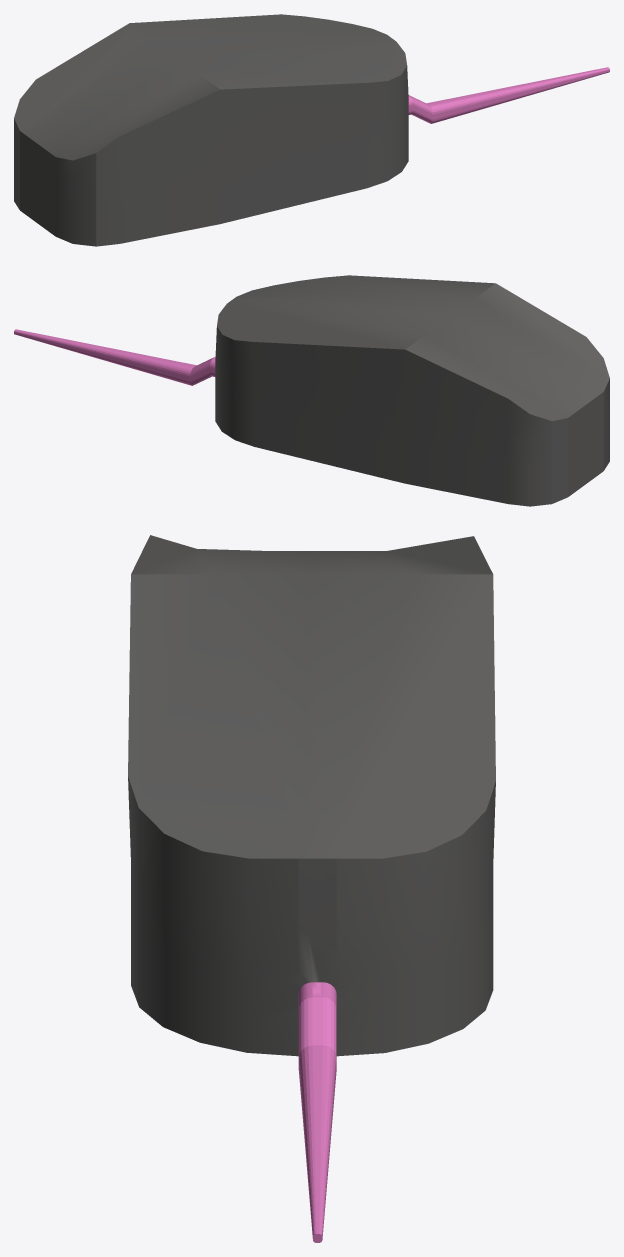
Rendered from mouse_mouse.fbx.
3 renders of one model, top to bottom at view 1: azimuth 30°, elevation 25°; view 2: azimuth 150°, elevation 25°; view 3: azimuth 270°, elevation 25°, orthographic. The views are drawn at different scales.
Visible parts, largest first — view 1: pCube1; view 2: pCube1; view 3: pCube1.
Part boxes in pixels (x1,y1,x2,y2): pCube1: [14, 14, 609, 246]; pCube1: [14, 275, 609, 506]; pCube1: [128, 535, 495, 1242].
Bounding box in the file's own units: 49.4 × 11.11 × 13.81.
1 material, 1 textured.
